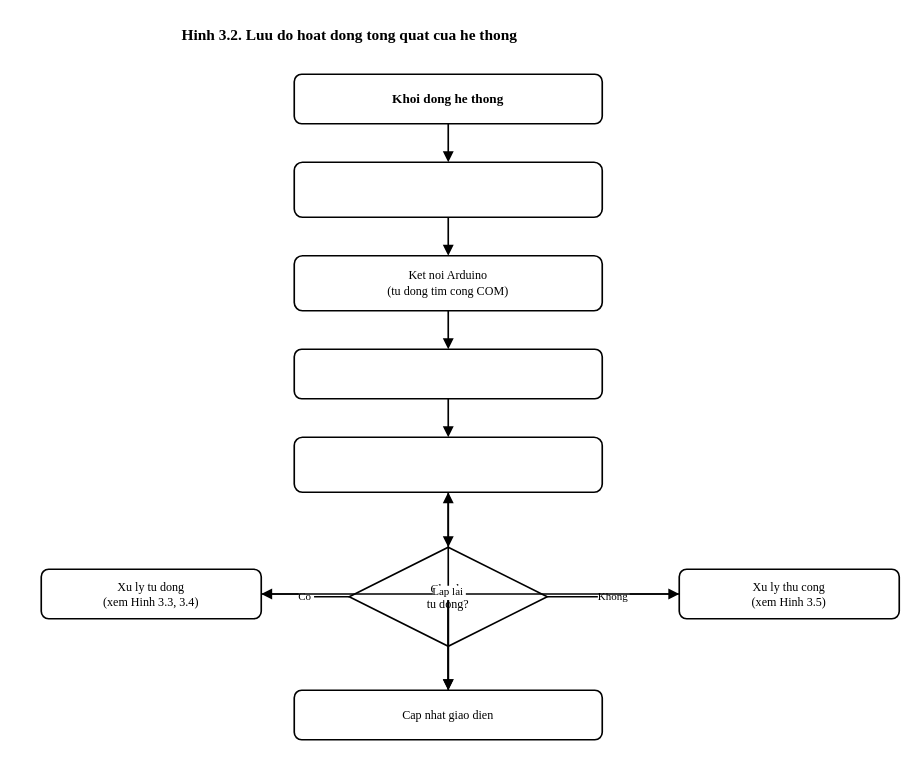
Image size: 919x759. Some labels were removed from this diagram. The shapes that lost their labels are listed below. From the top down, each one's box as (x1, y1, x2, y2) in pixels, then its label:
(293, 161, 603, 218): Tai module AI (YOLO + OCR)
(293, 348, 603, 399): Bat camera
(293, 436, 603, 493): Doi su kien (cam bien / nguoi dung)
